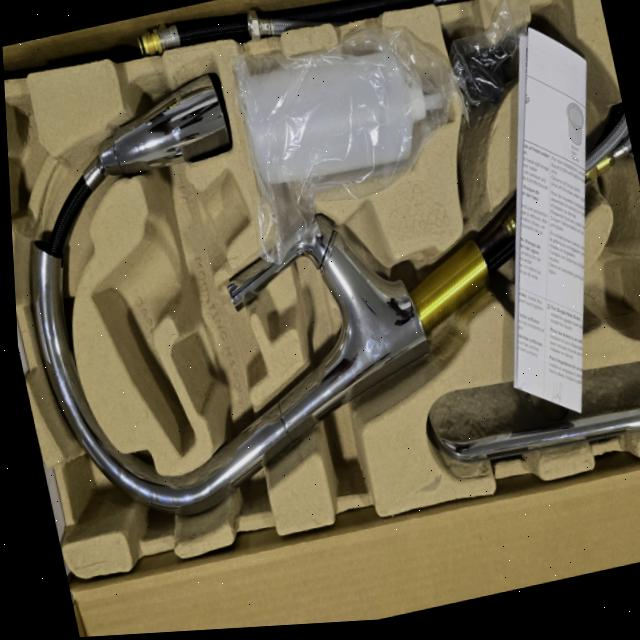1o: (31, 75, 633, 520)
2m: (92, 169, 252, 457)
3: (242, 49, 445, 187)
4o: (427, 361, 640, 463)
5m: (589, 252, 640, 336)
6m: (528, 0, 597, 122)
7: (449, 0, 528, 113)
8: (512, 25, 588, 415)
